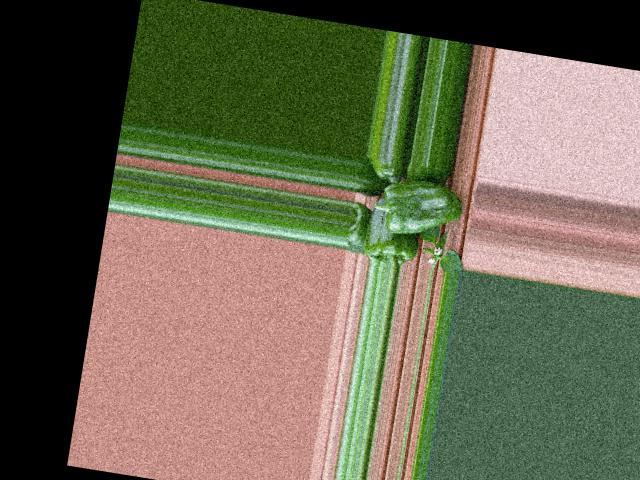bell_pepper: (361, 154, 402, 186)
